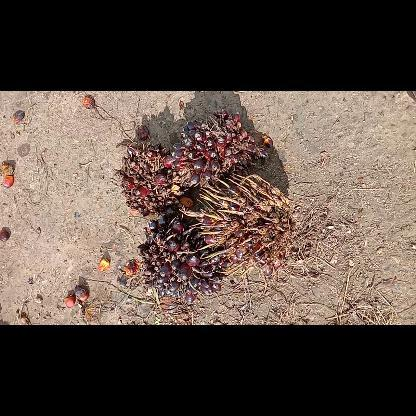TBS abnormal: (180, 173, 294, 277), (137, 207, 229, 303), (173, 110, 267, 186), (114, 141, 188, 215)
